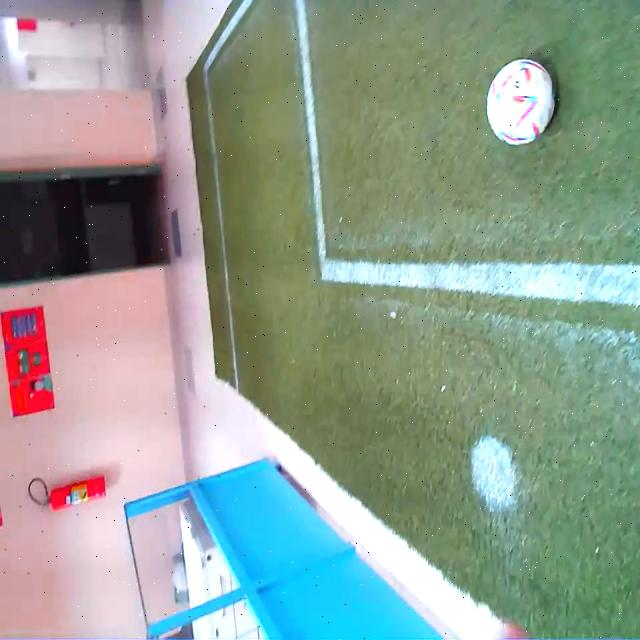ball: (486, 59, 554, 145)
